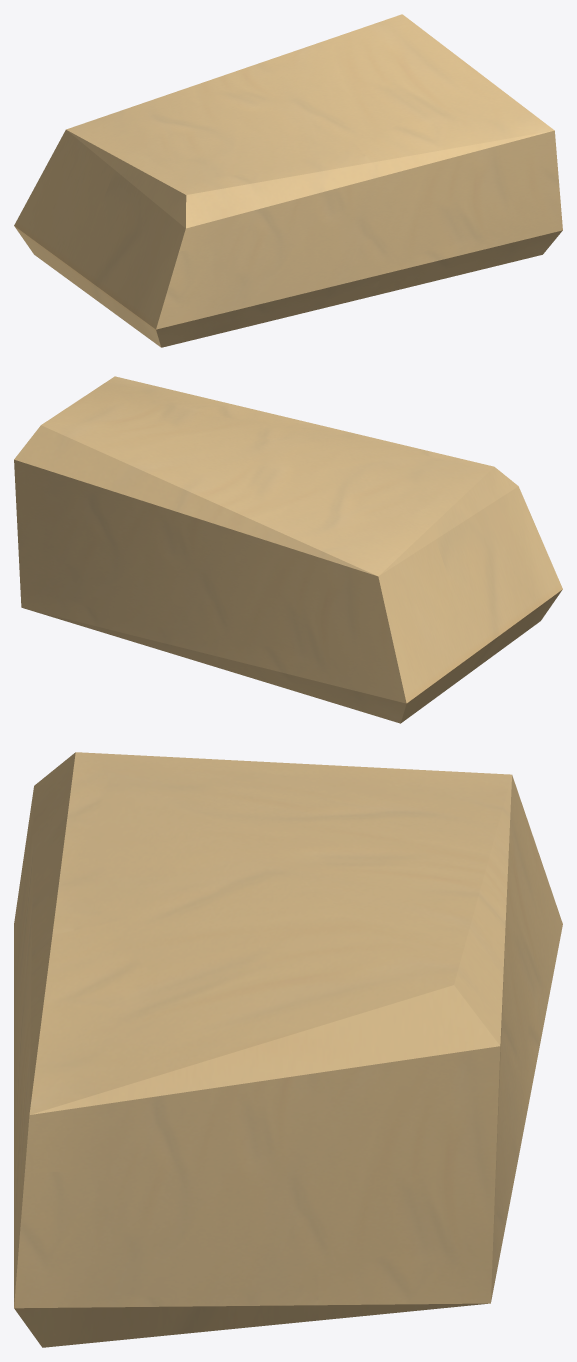
Rendered from BlockC.FBX.
The picture shows the model from 3 angles, top to bottom: view 1: azimuth 30°, elevation 25°; view 2: azimuth 150°, elevation 25°; view 3: azimuth 270°, elevation 25°; orthographic projection. The views are drawn at different scales.
Visible parts, largest first — view 1: BlockC; view 2: BlockC; view 3: BlockC.
Part boxes in pixels (left/top/right/bottom): BlockC: left=14, top=14, right=562, bottom=347; BlockC: left=14, top=376, right=562, bottom=723; BlockC: left=14, top=752, right=562, bottom=1347.
Bounding box in the file's own units: 8.28 × 5 × 3.32.
1 material, 1 textured.
